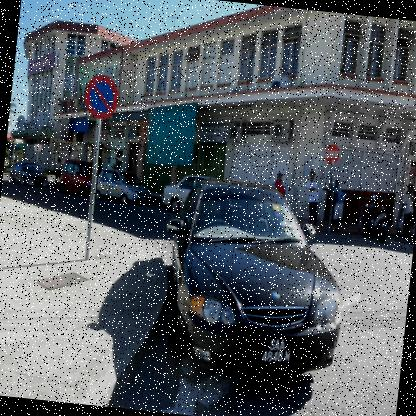Car: (148, 173, 350, 385), (95, 162, 151, 205), (160, 172, 206, 216), (58, 158, 104, 198), (9, 160, 50, 187)
